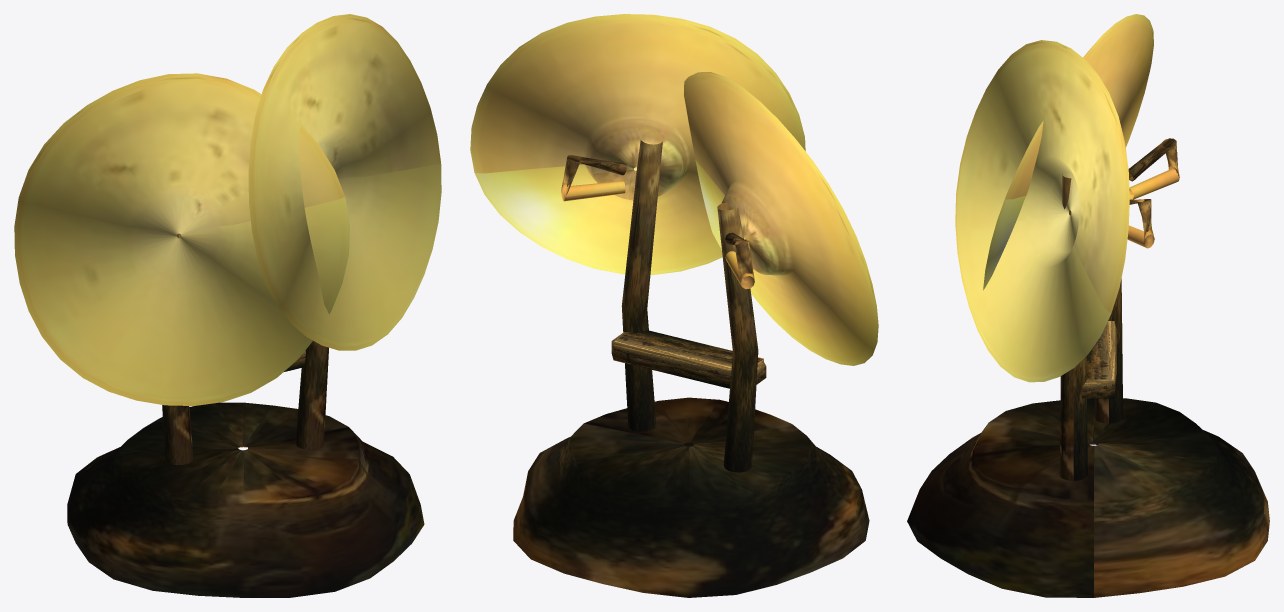
The model's file is praise-cymbals.glb.
3 renders of one model, left to right at view 1: azimuth 30°, elevation 25°; view 2: azimuth 150°, elevation 25°; view 3: azimuth 270°, elevation 25°, orthographic.
Visible parts, largest first — view 1: HeroRelicMonument; view 2: HeroRelicMonument; view 3: HeroRelicMonument.
Boxes of the visible parts, x1,y1,x2,y2 form: HeroRelicMonument: (14, 14, 441, 597); HeroRelicMonument: (470, 14, 878, 597); HeroRelicMonument: (907, 14, 1269, 597).
Size of the model in its own units: 1.92 by 2.17 by 1.44.
1 material, 1 textured.
